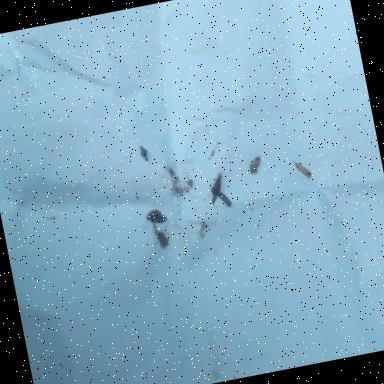pbw: (210, 165, 230, 196), (292, 156, 312, 180), (247, 152, 266, 174), (150, 210, 169, 224), (146, 208, 164, 220)
